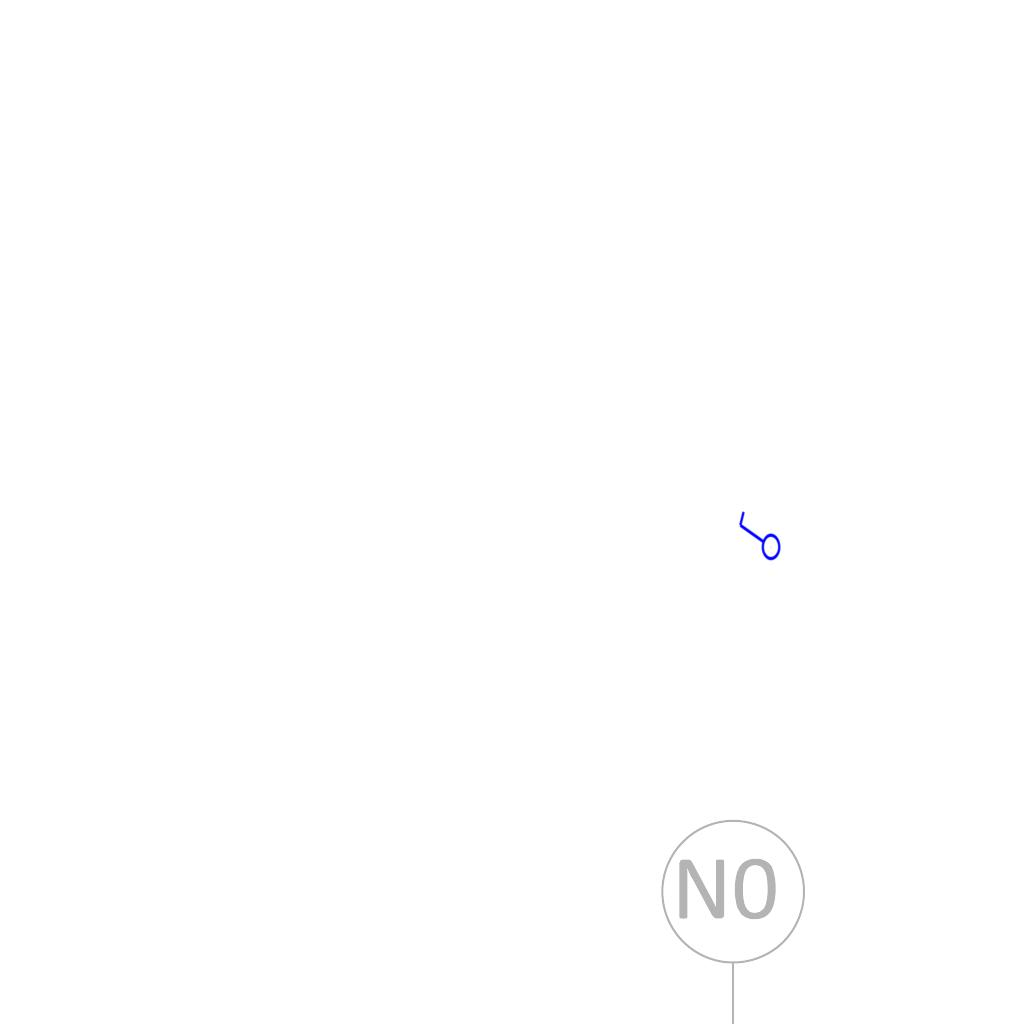Ausschalter: (734, 510, 782, 566)
